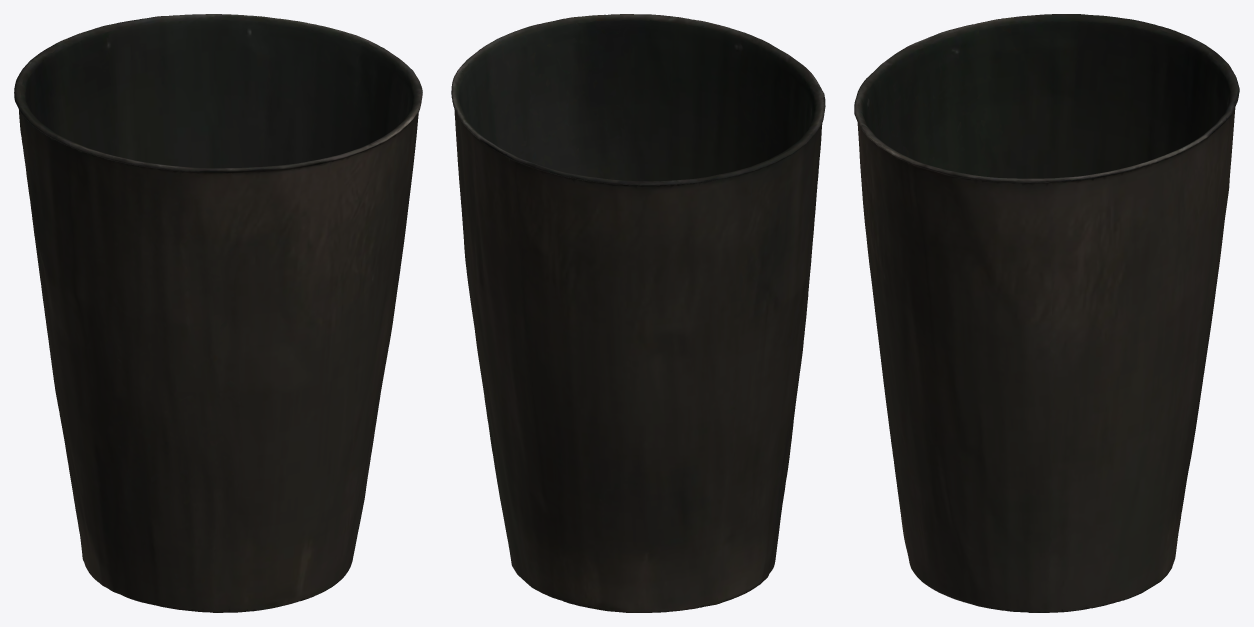
The model's file is Hefty_Waste_Basket_Decorative_Bronze_85_liter.glb.
3 renders of one model, left to right at view 1: azimuth 30°, elevation 25°; view 2: azimuth 150°, elevation 25°; view 3: azimuth 270°, elevation 25°, orthographic.
Visible parts, largest first — view 1: geometry_0; view 2: geometry_0; view 3: geometry_0.
Boxes of the visible parts, left/top/right/bottom form: geometry_0: left=14, top=14, right=422, bottom=612; geometry_0: left=451, top=14, right=825, bottom=612; geometry_0: left=854, top=14, right=1239, bottom=612.
Bounding box in the file's own units: 0.7721 × 0.9996 × 0.7566.
Materials: 1 (1 with a texture image).
